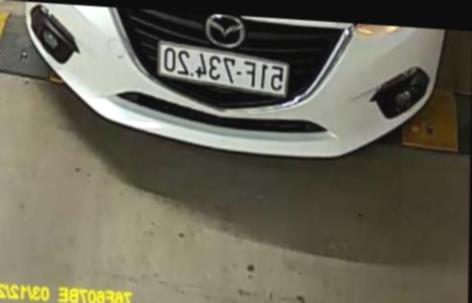License_Plate: (153, 37, 293, 107)
